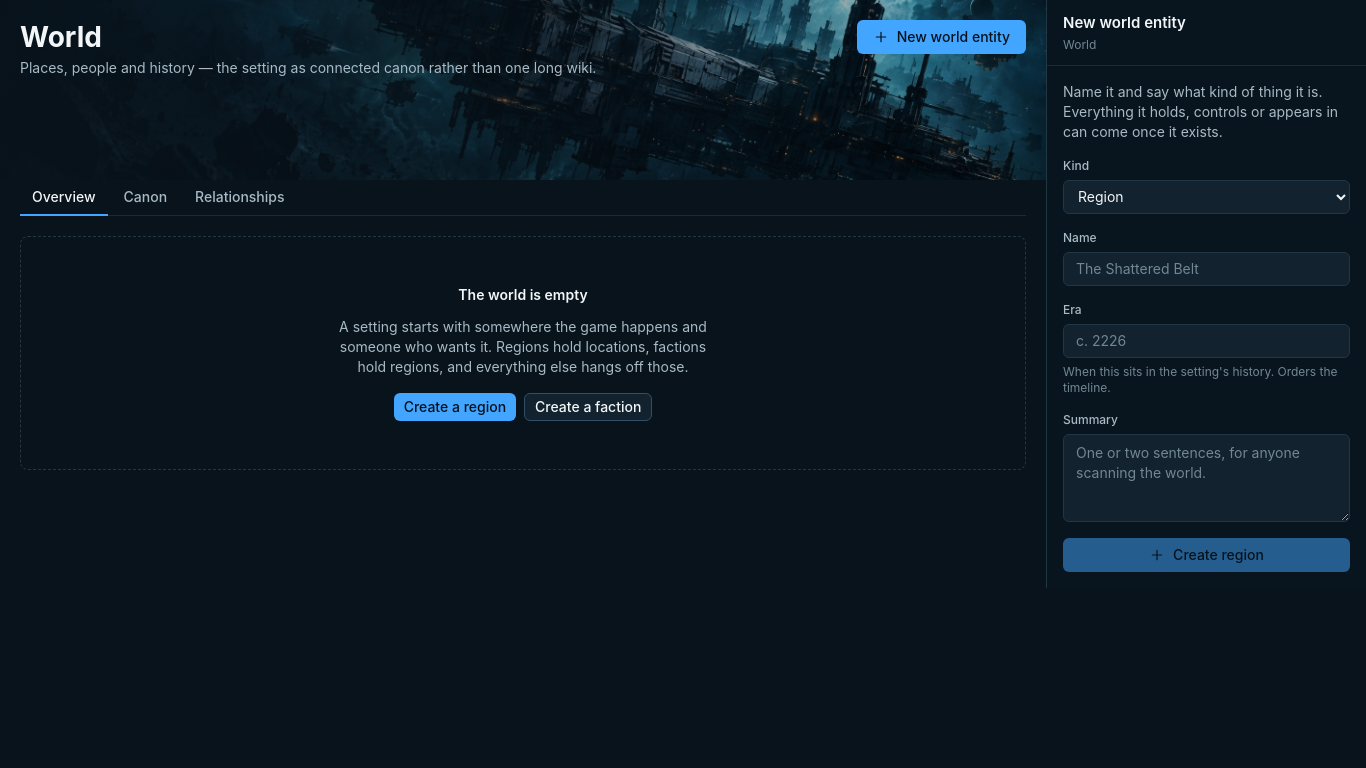
Scenario: World workspace › browsing the canon › has its own empty state for the archived shelf
Check: the text "The world is empty" is shown, box [458,285,588,305]
Click the tab "Canon" at [145, 198], box [112,180,179,216]
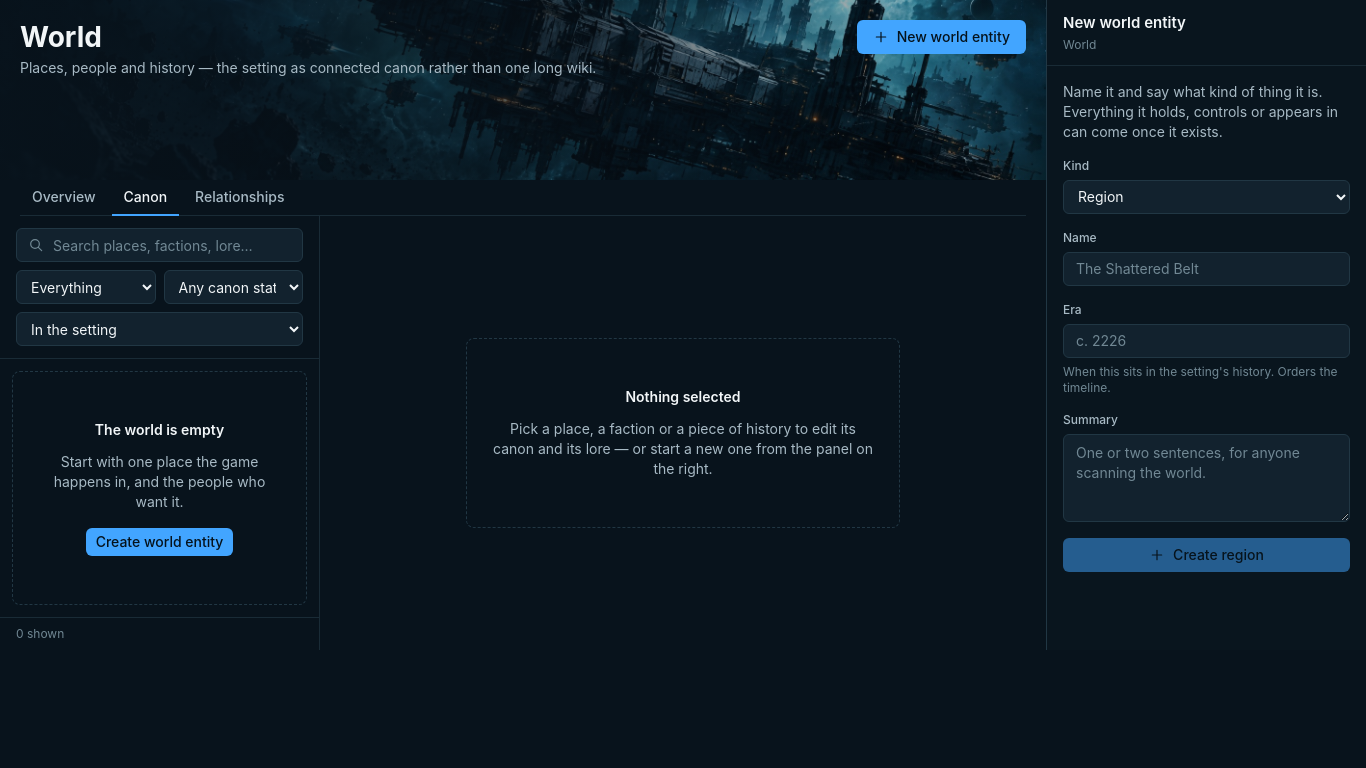
Select "Archived" in the dropdown named "Filter by lifecycle" at [160, 329], box [16,312,303,346]
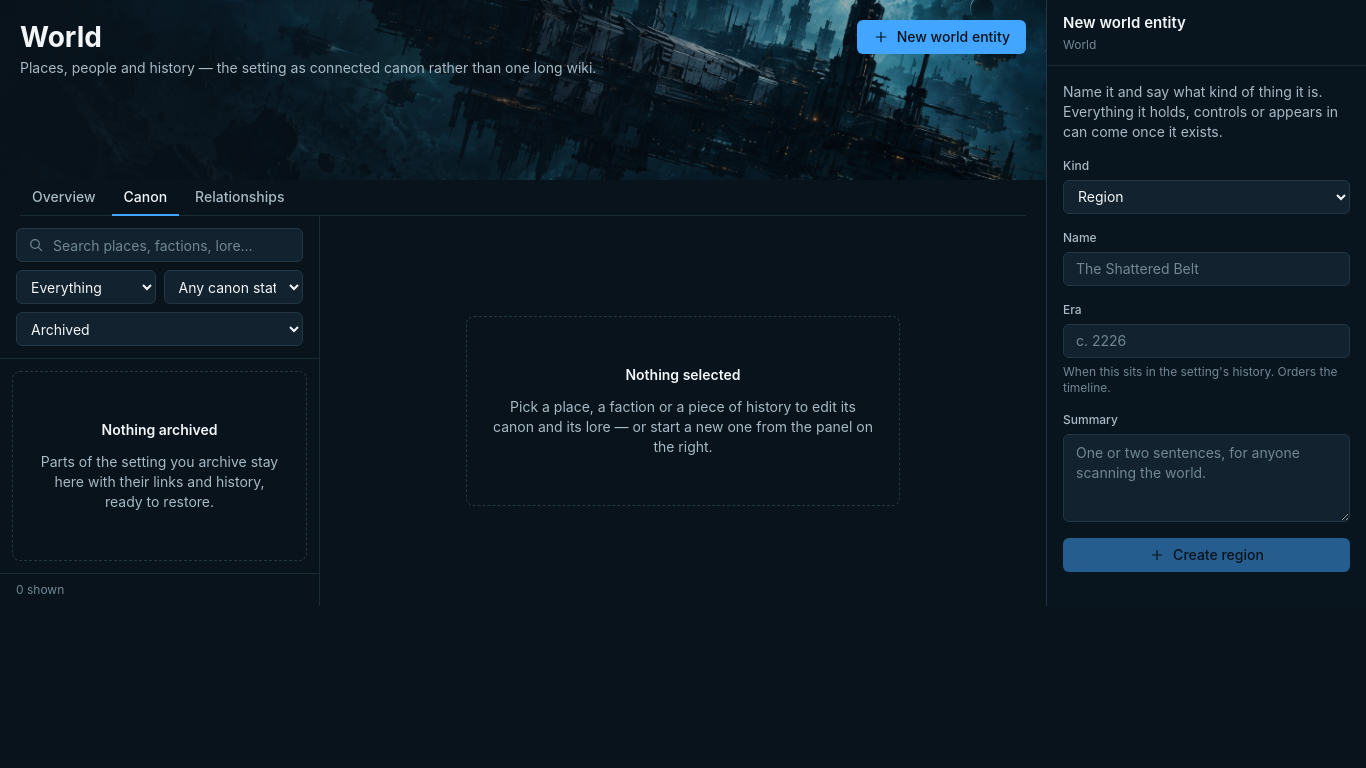
Check: the text "Nothing archived" is shown, box [102,420,218,440]
